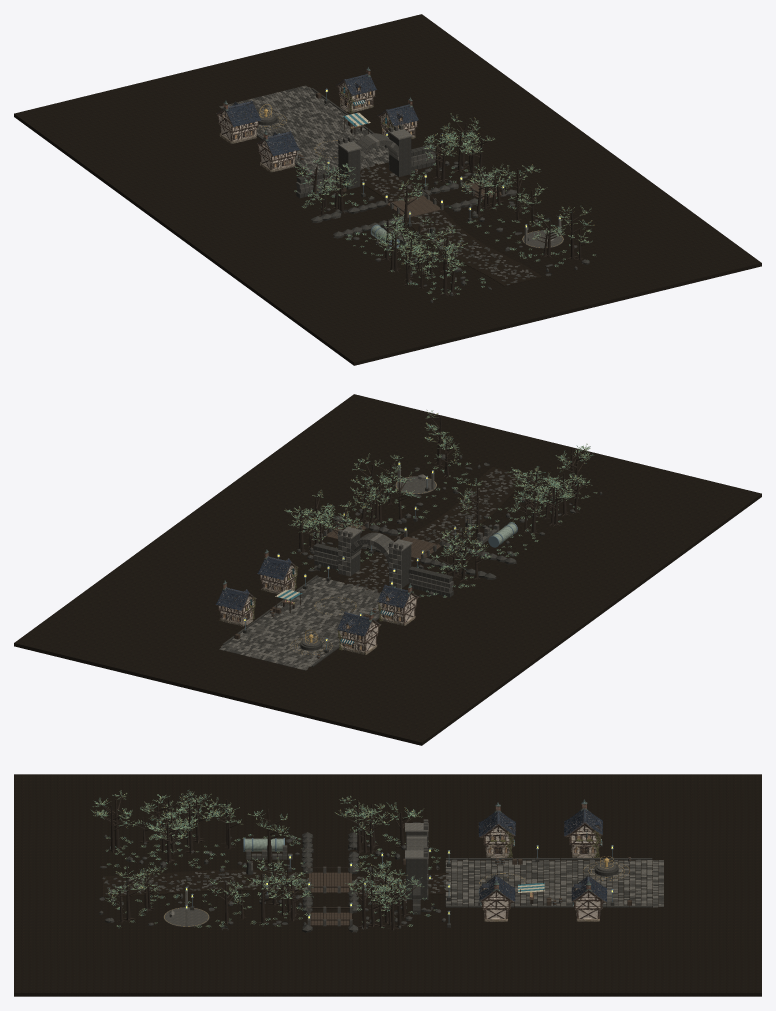
The model's file is briar-gate.glb.
3 views of the same model, one above another, from view 1: azimuth 30°, elevation 25°; view 2: azimuth 150°, elevation 25°; view 3: azimuth 270°, elevation 25° (orthographic). The views are drawn at different scales.
Visible parts, largest first — view 1: env.earth, env.stone-dark, env.timber, env.stone, env.mud, env.stone-light, env.house.-13.-24.house.merchant.0, env.house.-13.-9.house.merchant.0, env.house.13.-25.house.merchant.0, env.wood, env.house.13.-9.house.merchant.0, env.leaf (+1 smaller); view 2: env.earth, env.stone-dark, env.stone, env.timber, env.stone-light, env.mud, env.house.-13.-24.house.merchant.0, env.house.-13.-9.house.merchant.0, env.house.13.-25.house.merchant.0, env.house.13.-9.house.merchant.0, env.wood, env.leaf; view 3: env.earth, env.timber, env.stone-dark, env.stone, env.mud, env.stone-light, env.wood, env.house.-13.-24.house.merchant.0, env.house.-13.-9.house.merchant.0, env.house.13.-9.house.merchant.0, env.house.13.-25.house.merchant.0, env.leaf (+7 smaller).
Boxes of the visible parts, box(x1,y1,x2,y2) form: env.earth: box(14, 14, 761, 365); env.stone-dark: box(223, 86, 589, 302); env.timber: box(298, 92, 589, 296); env.stone: box(219, 85, 563, 282); env.mud: box(360, 163, 542, 286); env.stone-light: box(228, 86, 561, 243); env.house.-13.-24.house.merchant.0: box(216, 100, 261, 144); env.house.-13.-9.house.merchant.0: box(257, 130, 299, 172); env.house.13.-25.house.merchant.0: box(336, 66, 376, 113); env.wood: box(297, 93, 501, 232); env.house.13.-9.house.merchant.0: box(377, 97, 418, 138); env.leaf: box(294, 163, 595, 299); env.earth: box(14, 394, 761, 745); env.stone-dark: box(222, 454, 602, 667); env.stone: box(219, 470, 518, 670); env.timber: box(234, 413, 590, 639); env.stone-light: box(221, 465, 470, 669); env.mud: box(342, 467, 530, 592); env.house.-13.-24.house.merchant.0: box(337, 610, 381, 655); env.house.-13.-9.house.merchant.0: box(377, 583, 419, 625); env.house.13.-25.house.merchant.0: box(216, 580, 256, 626); env.house.13.-9.house.merchant.0: box(257, 549, 298, 594); env.wood: box(235, 522, 470, 658); env.leaf: box(292, 455, 597, 597); env.earth: box(14, 774, 761, 996); env.timber: box(94, 794, 631, 931); env.stone-dark: box(99, 822, 663, 932); env.stone: box(105, 819, 663, 926); env.mud: box(103, 869, 448, 896); env.stone-light: box(169, 823, 663, 926); env.wood: box(277, 857, 631, 925); env.house.-13.-24.house.merchant.0: box(564, 799, 602, 858); env.house.-13.-9.house.merchant.0: box(478, 802, 515, 857); env.house.13.-9.house.merchant.0: box(479, 875, 515, 921); env.house.13.-25.house.merchant.0: box(571, 875, 607, 921); env.leaf: box(106, 834, 440, 927).
Size of the model in its own units: 90 by 11.91 by 130.
Materials: 19 (12 with a texture image).
